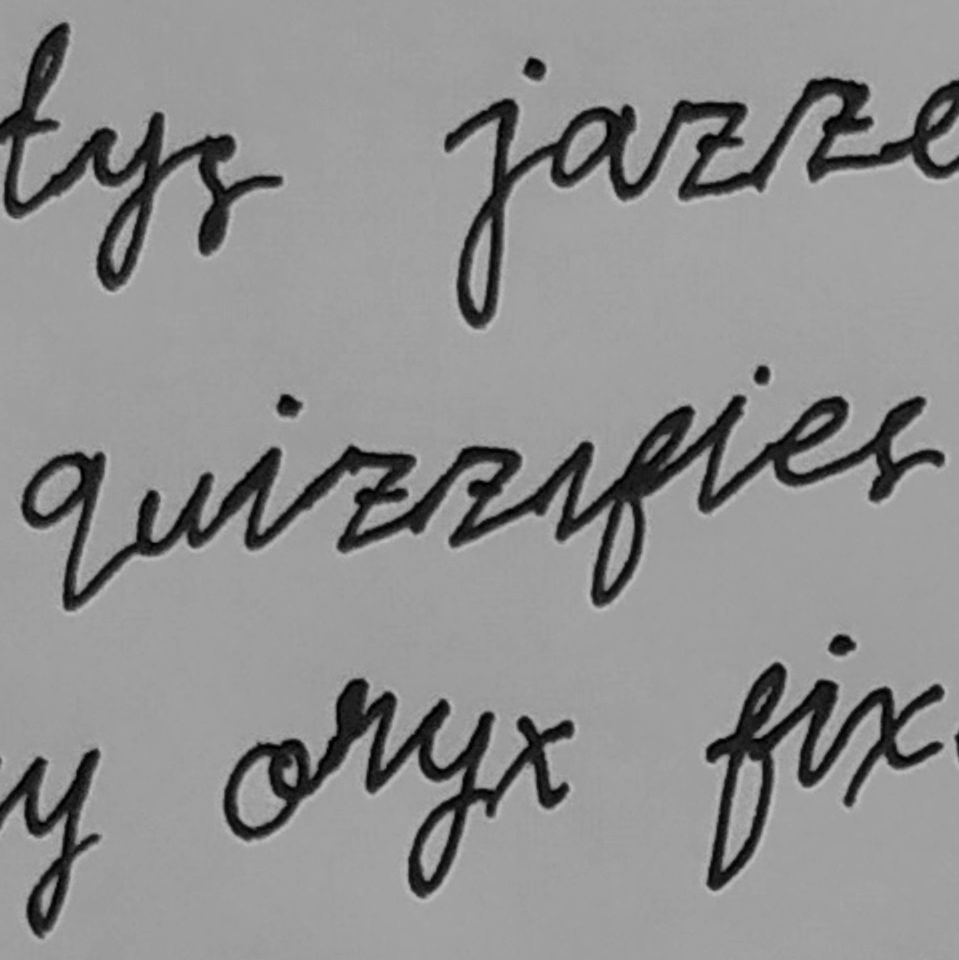e: (766, 387, 856, 494)
f: (584, 390, 701, 617)
i: (226, 386, 315, 560), (691, 356, 776, 527), (533, 427, 597, 547)
q: (14, 444, 118, 615)
s: (861, 386, 952, 511)
u: (128, 463, 221, 562)
z: (322, 436, 424, 557), (433, 438, 524, 550)
